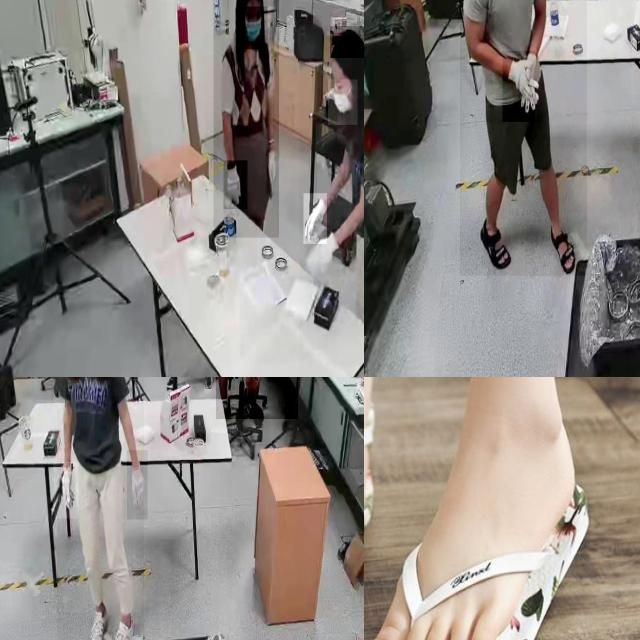Sandals: (364, 377, 614, 640)
face_mask: (328, 79, 358, 125), (240, 7, 268, 49)
hand_glove: (503, 51, 535, 123), (308, 235, 340, 289), (53, 462, 79, 520), (127, 450, 148, 520), (303, 193, 327, 244), (224, 160, 248, 210), (266, 147, 278, 196)
head_nohelmet: (330, 26, 364, 59)
person: (460, 0, 587, 276), (57, 377, 144, 640), (299, 28, 364, 377), (213, 0, 279, 238), (215, 377, 298, 420)
shoes: (88, 598, 108, 640), (111, 607, 135, 640)
